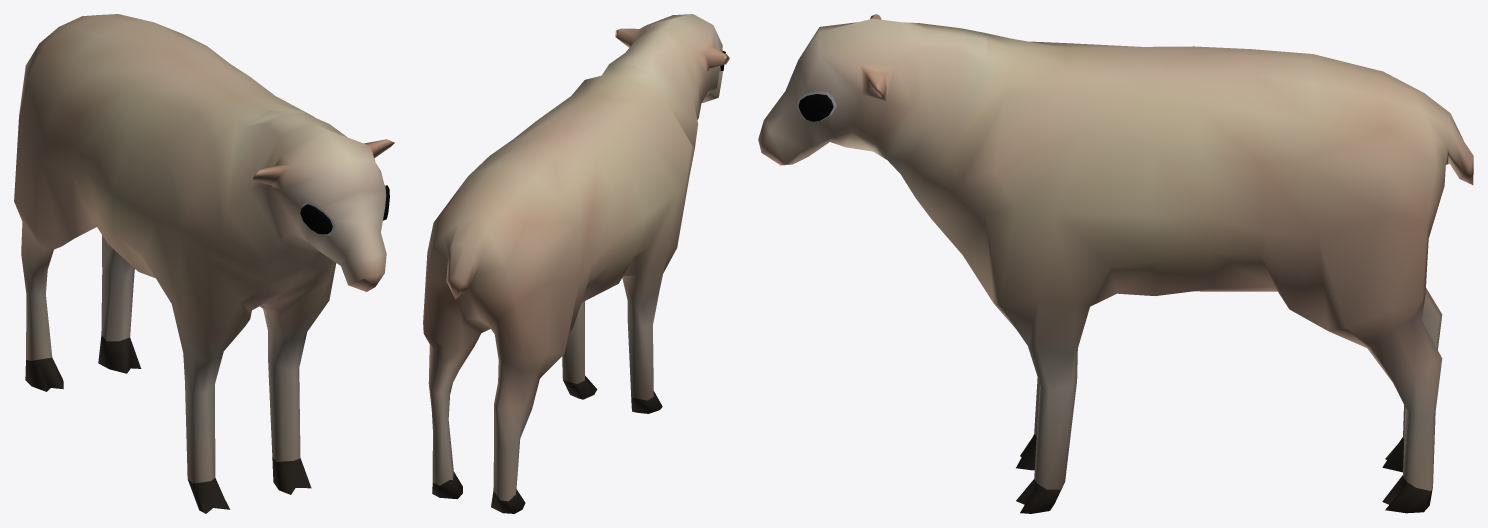
The model's file is Sheep.gltf.
3 renders of one model, left to right at view 1: azimuth 30°, elevation 25°; view 2: azimuth 150°, elevation 25°; view 3: azimuth 270°, elevation 25°, orthographic. The views are drawn at different scales.
Visible parts, largest first — view 1: base.074; view 2: base.074; view 3: base.074.
Boxes of the visible parts, <box> form: base.074: <box>14,14,394,513</box>; base.074: <box>423,14,729,513</box>; base.074: <box>758,14,1473,513</box>.
Size of the model in its own units: 0.4059 by 0.9148 by 1.27.
